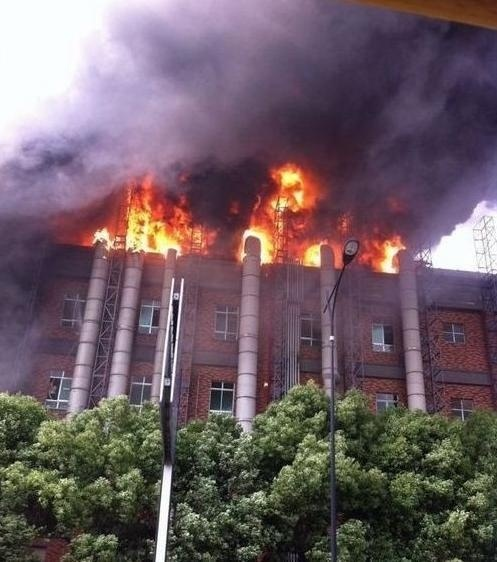fire: (240, 166, 409, 272), (88, 176, 215, 255)
